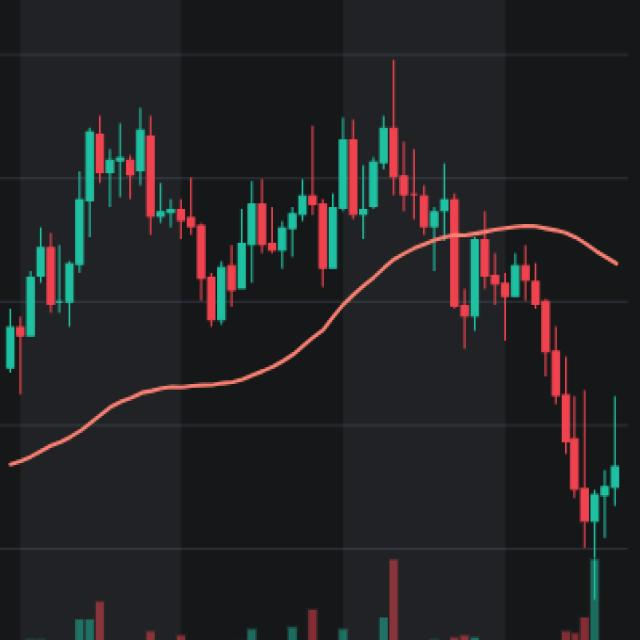Support-breakout: (193, 117, 624, 544)
